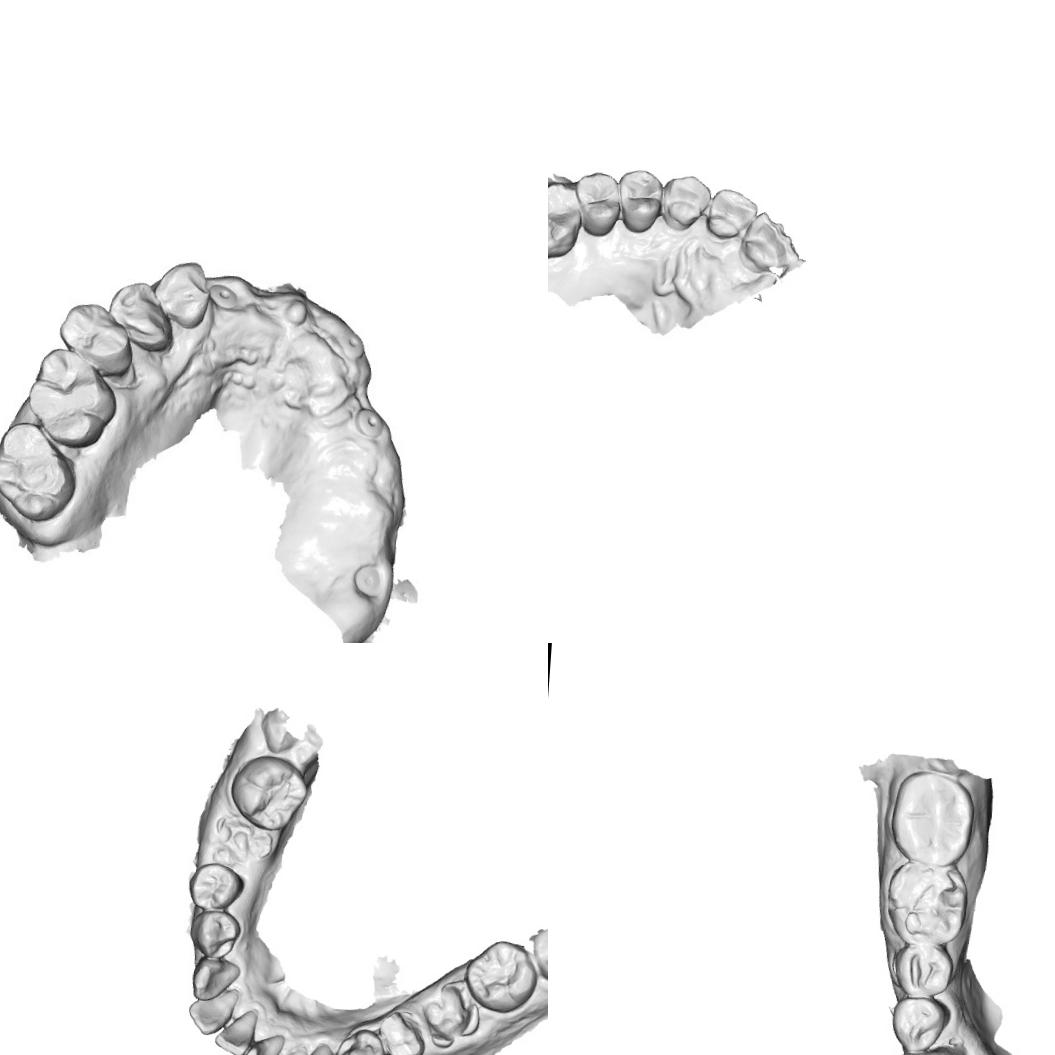canine: (148, 254, 216, 327), (659, 172, 712, 234), (189, 954, 241, 1002), (298, 1040, 344, 1055)
implant: (350, 399, 388, 441), (352, 560, 382, 600), (208, 278, 240, 312), (334, 326, 368, 358)
incisor: (738, 209, 802, 272), (706, 186, 758, 241), (184, 984, 239, 1036), (213, 1004, 259, 1055), (240, 1030, 285, 1055), (265, 1042, 307, 1055)
molar: (20, 342, 118, 447), (884, 766, 976, 867), (880, 854, 972, 949), (0, 419, 77, 519), (228, 751, 311, 833), (462, 937, 540, 1015), (548, 177, 585, 266)
premolar: (101, 272, 175, 350), (55, 300, 130, 370), (886, 938, 955, 1004), (888, 994, 950, 1055), (570, 168, 623, 239), (614, 166, 664, 235), (186, 860, 245, 912), (187, 907, 242, 960), (375, 1009, 427, 1055), (333, 1026, 386, 1055)
